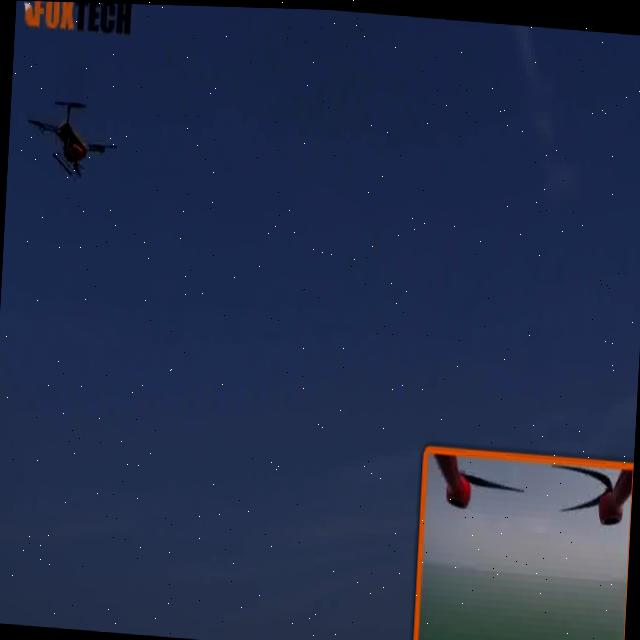drone: (10, 79, 128, 200)
